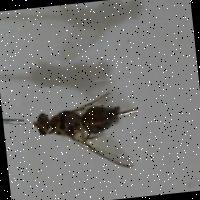Oriental-fruit-fly: (19, 76, 143, 186)
